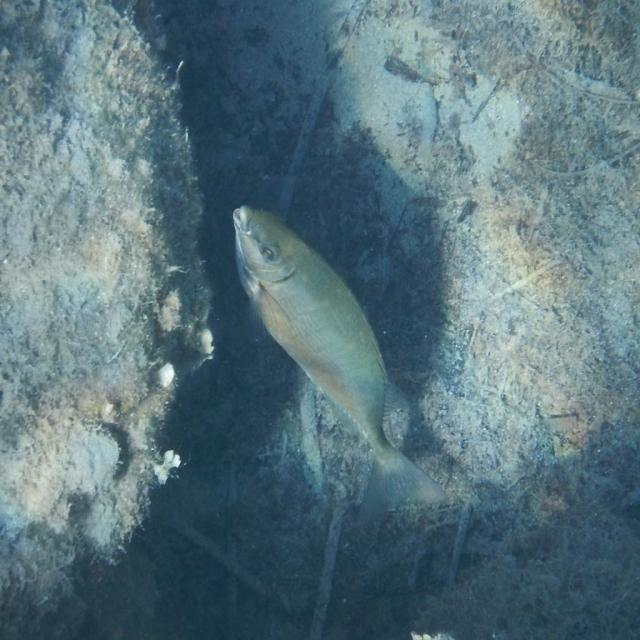Sokar Baligi: (226, 196, 452, 531)
